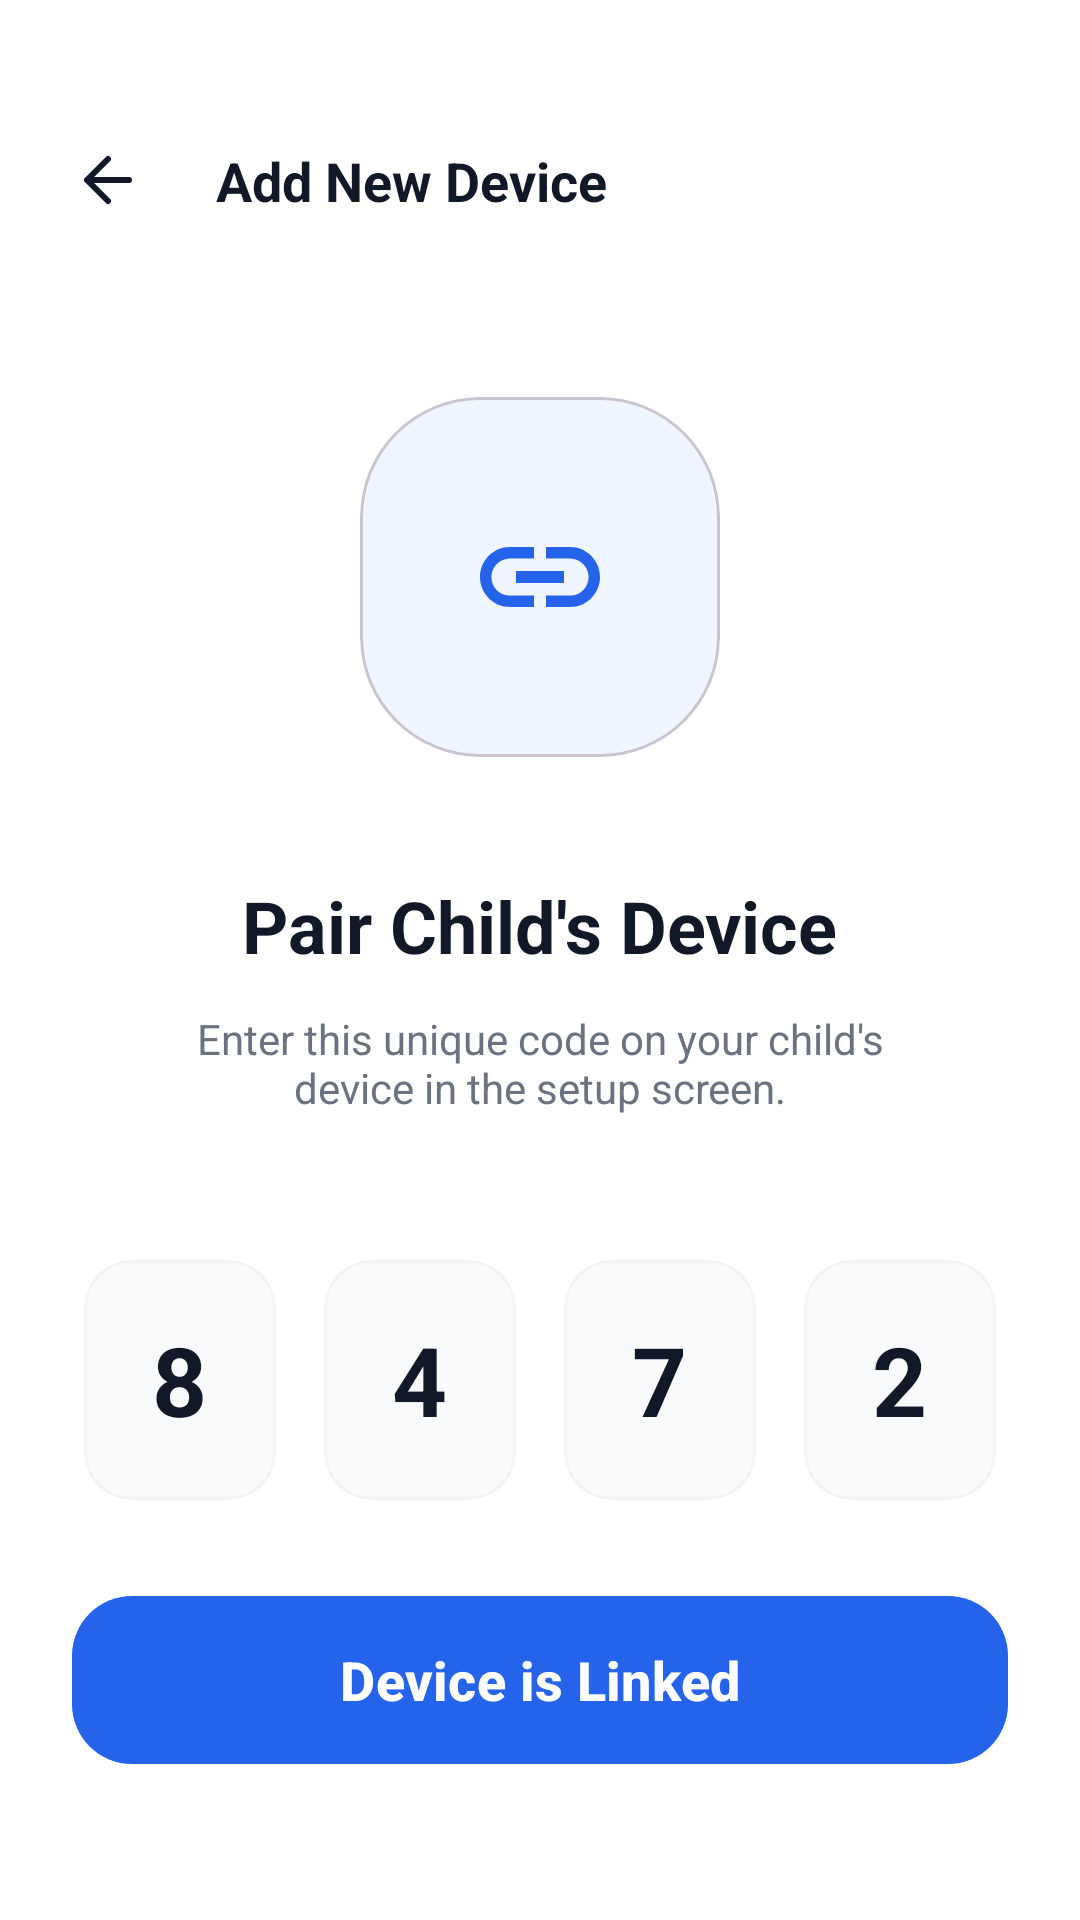

Icon bounding boxes for this 1080px×1920px phone screenshot, format (x1=x1, y1=y1, x2=x2, y2=y2):
back: (x1=84, y1=156, x2=132, y2=204)
link: (x1=480, y1=547, x2=600, y2=607)
